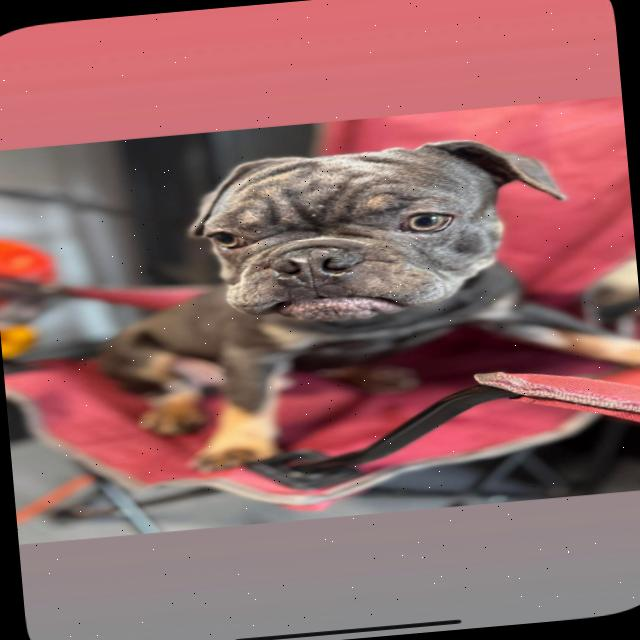french_bulldog_dog: (152, 115, 588, 352)
